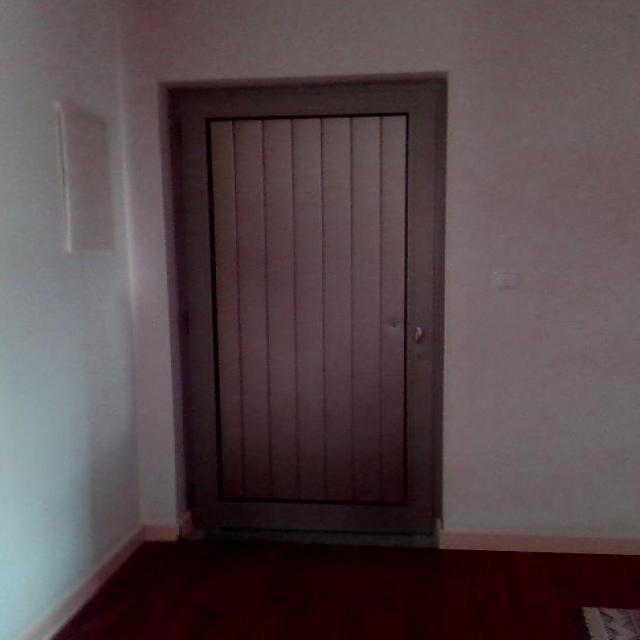door: (167, 75, 446, 544)
